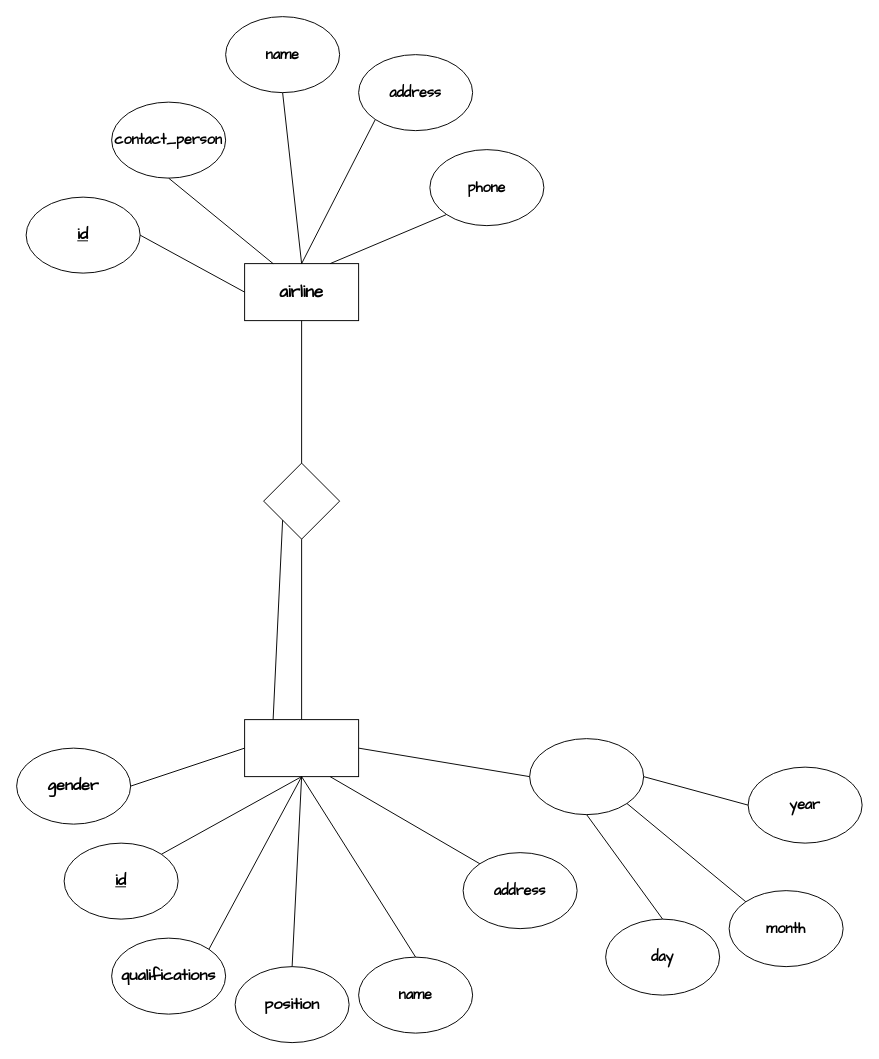
The diagram is 879 pixels wide and 1059 high, and some of its shapes have lost their labels. The box of each missing label's shape, as (x1, y1, x2, y2) in pixels:
birthday: (529, 738, 644, 815)
Employee: (244, 719, 359, 777)
works: (263, 462, 340, 539)
